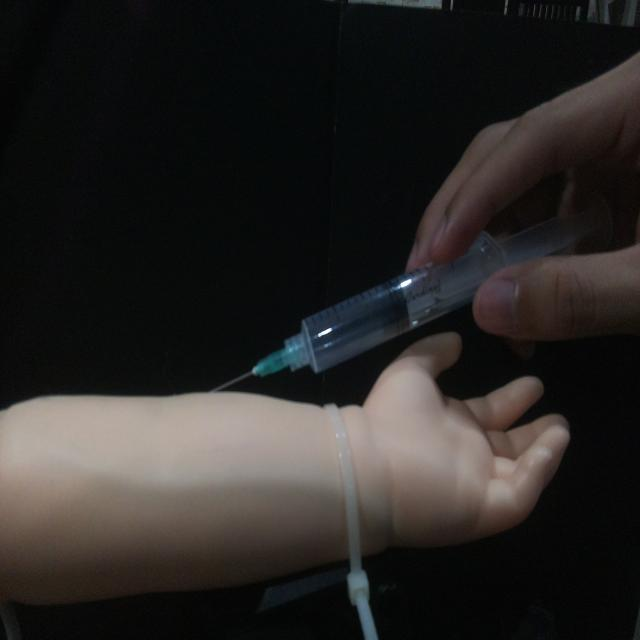16deg: (207, 199, 610, 395)
